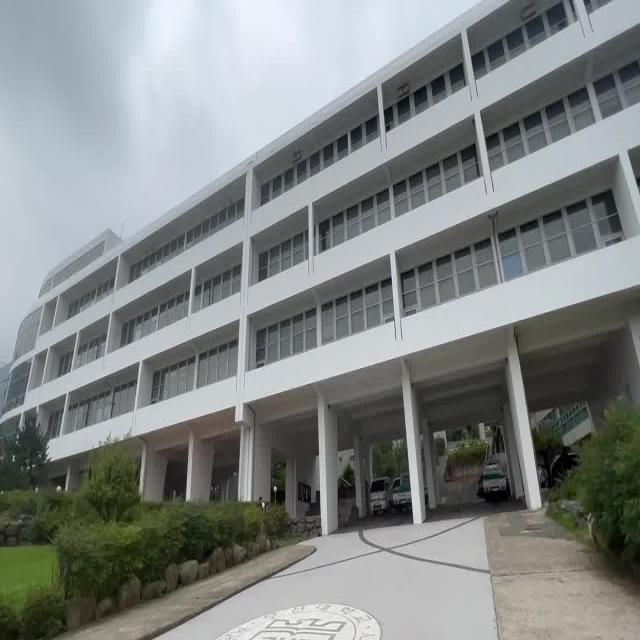building: (38, 13, 626, 371)
